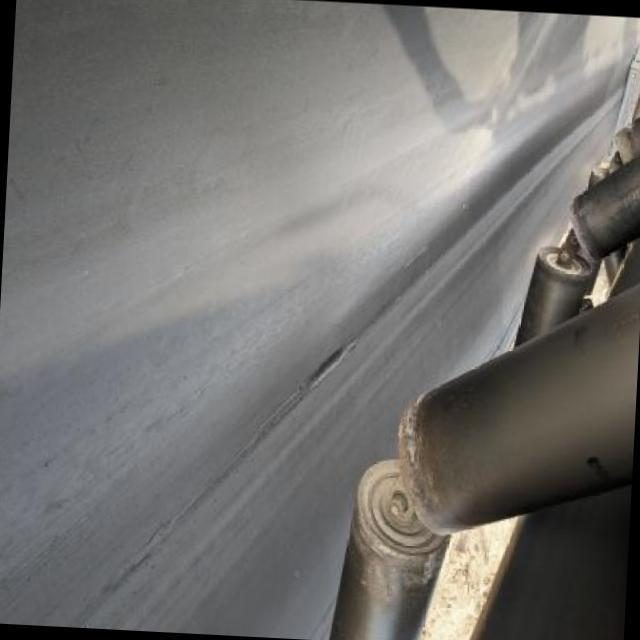Impact Damage: (297, 344, 353, 402)
